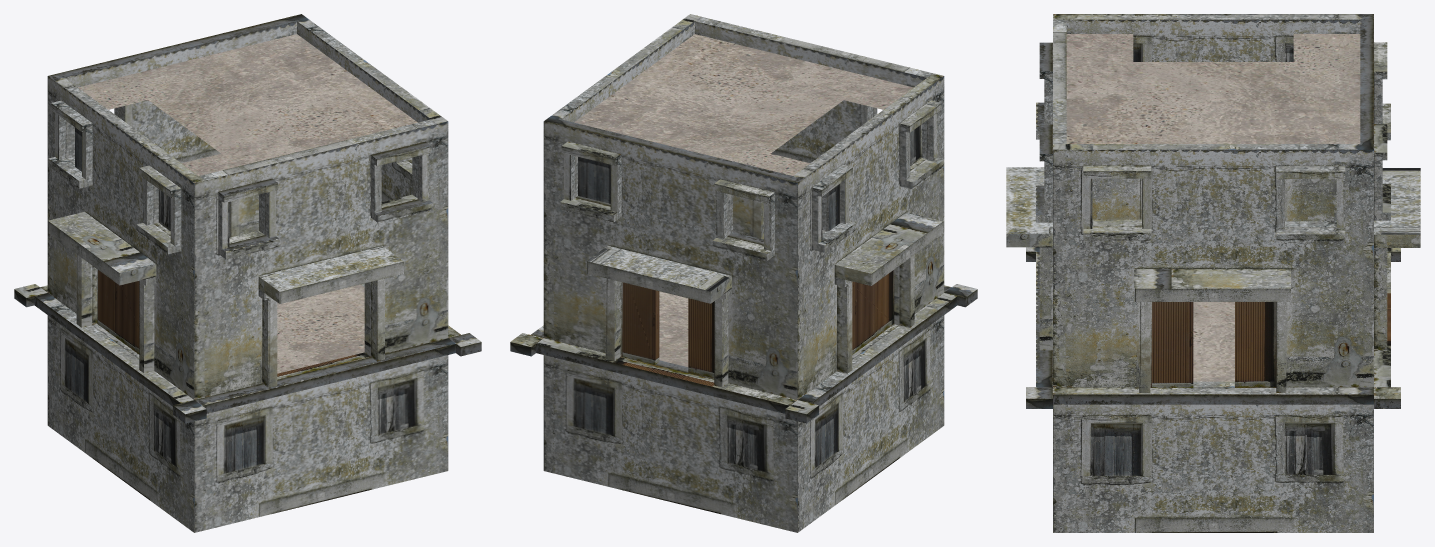
File: BagBuilding12_140.fbx
3 renders of one model, left to right at view 1: azimuth 30°, elevation 25°; view 2: azimuth 150°, elevation 25°; view 3: azimuth 270°, elevation 25°, orthographic. The views are drawn at different scales.
Visible parts, largest first — view 1: main140, floors140; view 2: main140, floors140; view 3: main140, floors140.
Part boxes in pixels (box(x1,y1,x2,y2)): main140: box(14, 14, 481, 532); floors140: box(78, 34, 417, 373); main140: box(510, 14, 977, 532); floors140: box(574, 34, 913, 366); main140: box(1006, 14, 1420, 532); floors140: box(1066, 34, 1360, 381).
Size of the model in its own units: 18.84 by 19.22 by 18.84.
